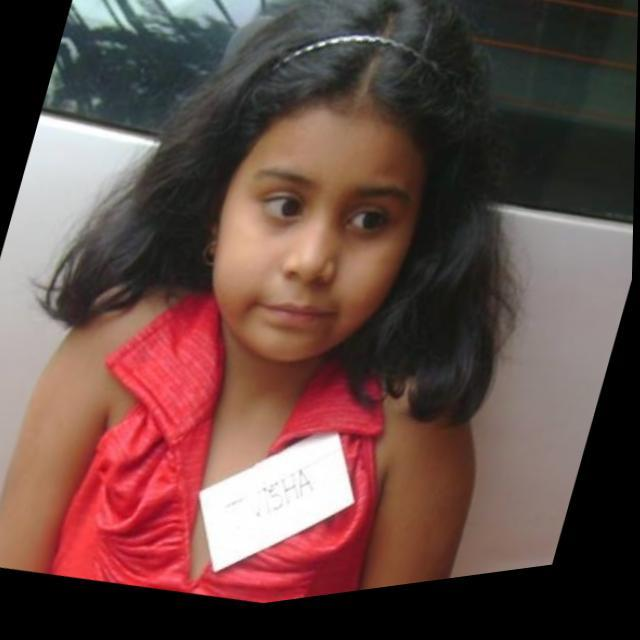Nonhelmet: (183, 0, 439, 358)
